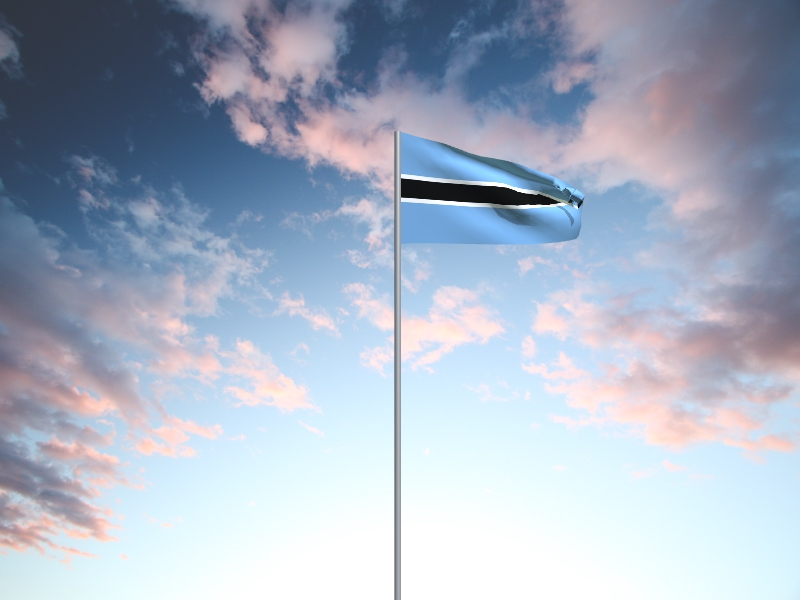bw: (401, 133, 587, 246)
